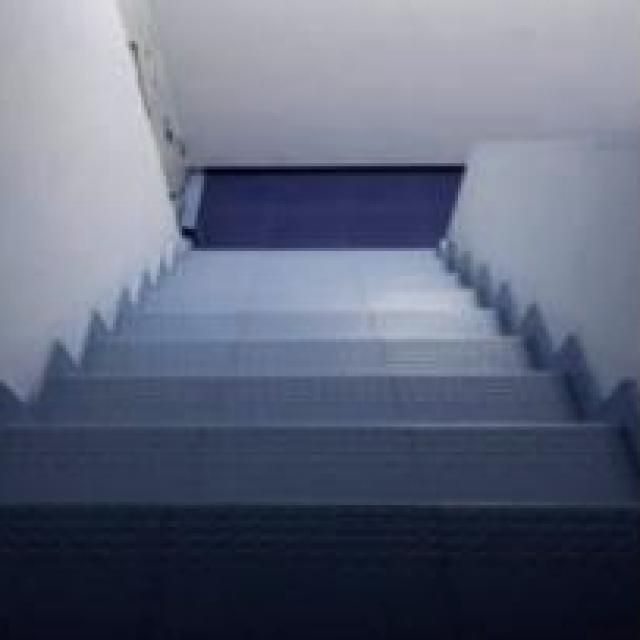downstair: (10, 334, 497, 588)
